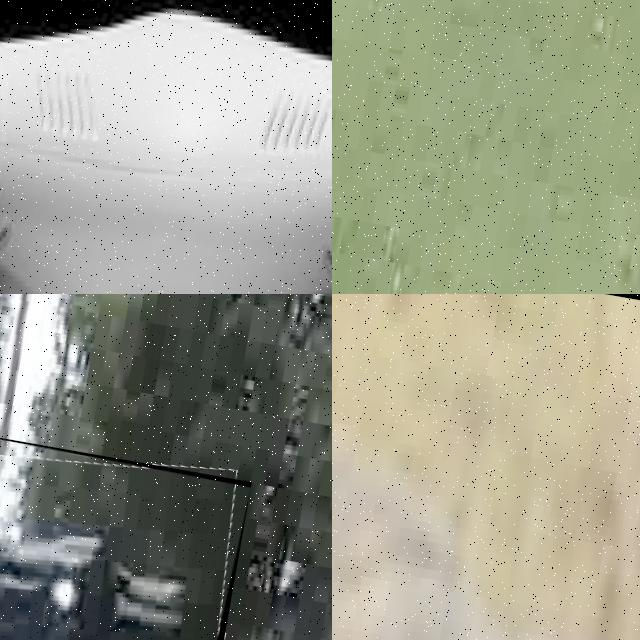0: (0, 416, 251, 640)
drone: (0, 0, 332, 294)
